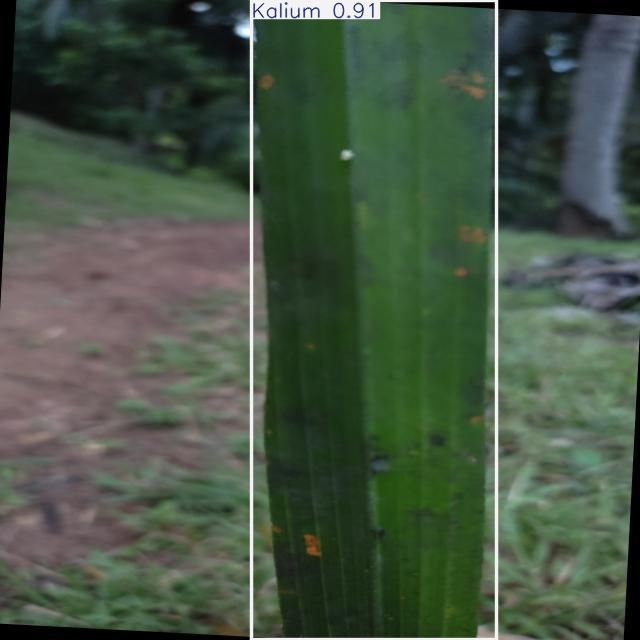Kalium: (251, 1, 497, 639)
